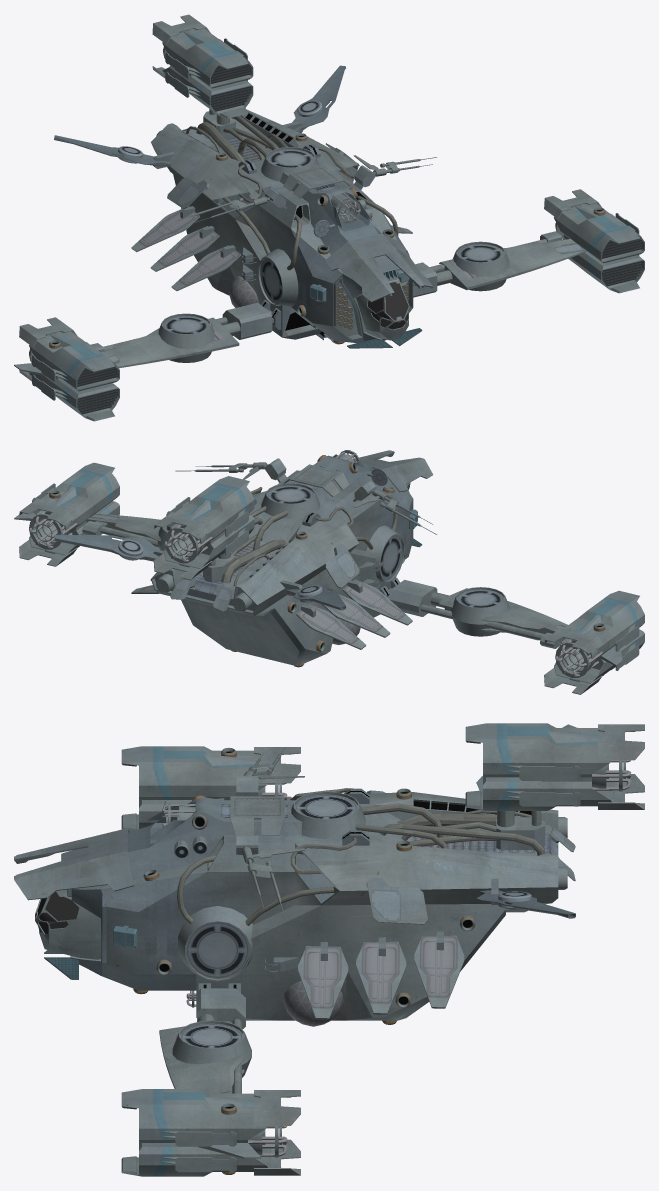
The model's file is Enemy_3.FBX.
The picture shows the model from 3 angles, top to bottom: view 1: azimuth 30°, elevation 25°; view 2: azimuth 150°, elevation 25°; view 3: azimuth 270°, elevation 25°; orthographic projection. The views are drawn at different scales.
Parts seen in each view (by area): view 1: the_hull; view 2: the_hull; view 3: the_hull.
Boxes of the visible parts, bbox=[...] form: the_hull: bbox=[14, 14, 644, 421]; the_hull: bbox=[14, 450, 644, 694]; the_hull: bbox=[14, 723, 644, 1176].
Size of the model in its own units: 597 by 194 by 404.
Materials: 1 (1 with a texture image).
